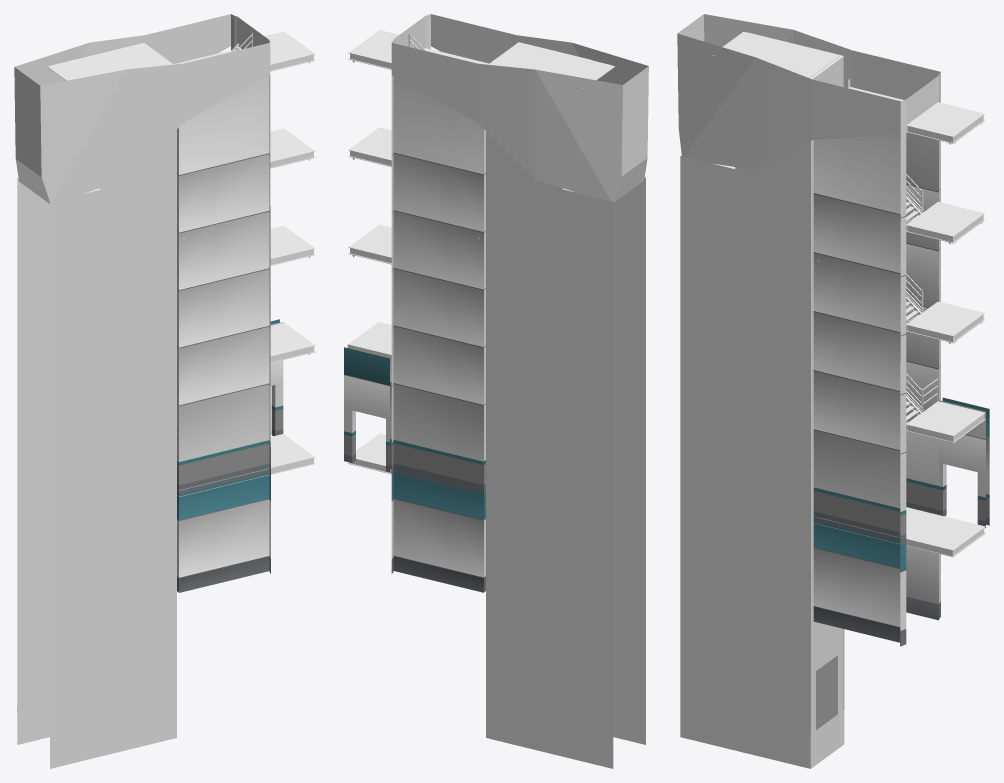
The picture shows the model from 3 angles, left to right: view 1: azimuth 30°, elevation 25°; view 2: azimuth 150°, elevation 25°; view 3: azimuth 330°, elevation 25°; orthographic projection. The views are drawn at different scales.
Visible parts, largest first — view 1: SM_H_Building_FutureTech_WatchTower_01d; view 2: SM_H_Building_FutureTech_WatchTower_01d; view 3: SM_H_Building_FutureTech_WatchTower_01d.
Part boxes in pixels (bbox=[...]): SM_H_Building_FutureTech_WatchTower_01d: bbox=[14, 14, 315, 768]; SM_H_Building_FutureTech_WatchTower_01d: bbox=[344, 14, 648, 768]; SM_H_Building_FutureTech_WatchTower_01d: bbox=[677, 14, 989, 768].
Size of the model in its own units: 127 by 502 by 1202.
